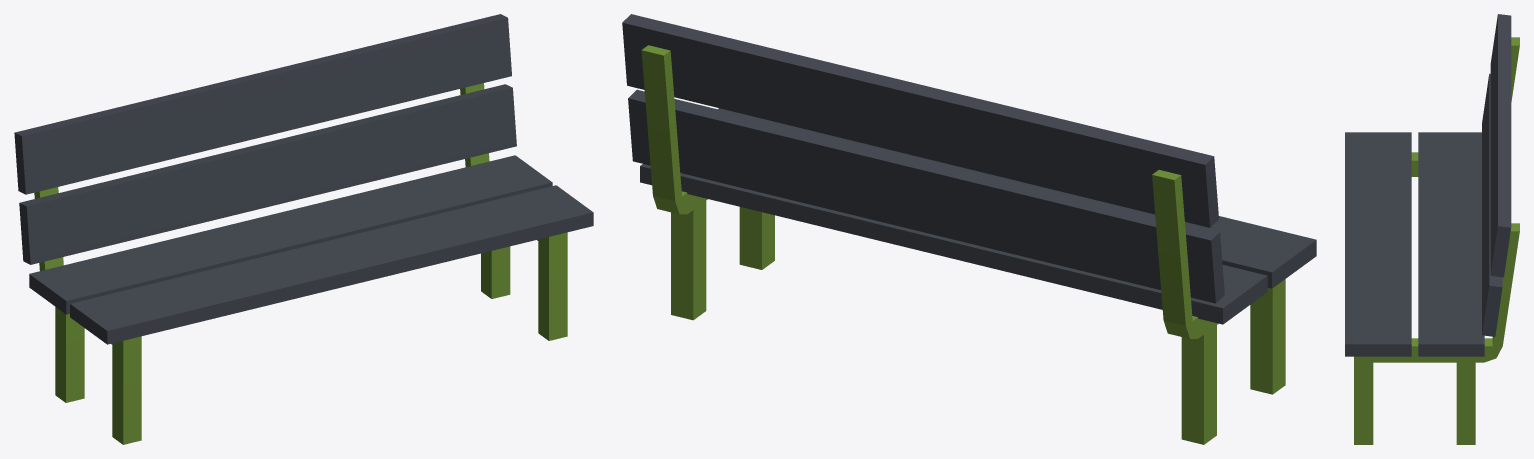
File: Bench_02.fbx
3 views of the same model, side by side, from view 1: azimuth 30°, elevation 25°; view 2: azimuth 150°, elevation 25°; view 3: azimuth 270°, elevation 25° (orthographic). The views are drawn at different scales.
Parts seen in each view (by area): view 1: Bench_02; view 2: Bench_02; view 3: Bench_02.
Boxes of the visible parts, x1,y1,x2,y2 form: Bench_02: (14, 14, 593, 444); Bench_02: (622, 14, 1316, 444); Bench_02: (1345, 14, 1519, 444).
Size of the model in its own units: 1.93 by 0.9691 by 0.6739.
